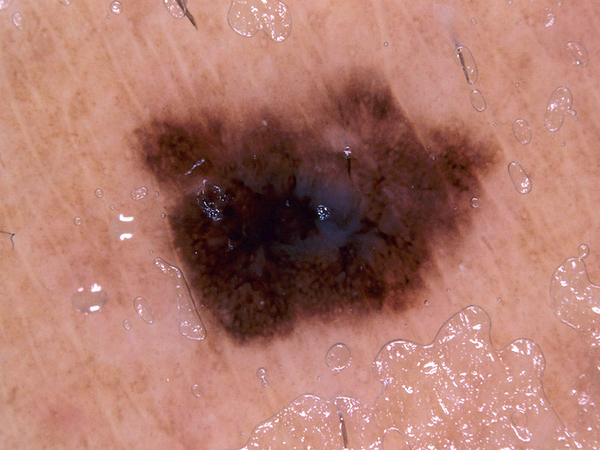Detected Lesion: (129, 69, 503, 347)
